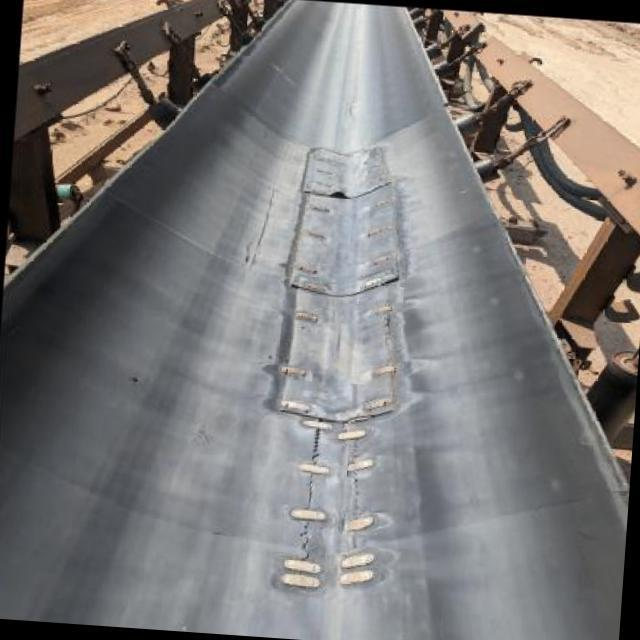Tear: (344, 475, 370, 516), (297, 519, 317, 563), (306, 428, 328, 464), (300, 475, 322, 507), (345, 438, 365, 464)
